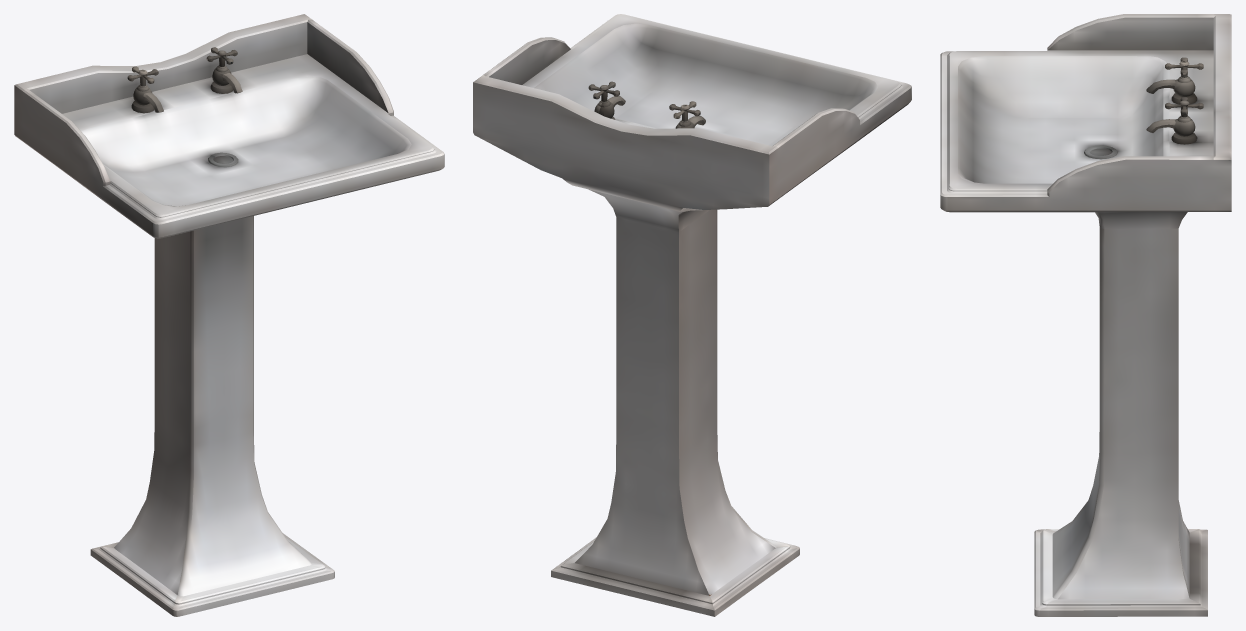
The model's file is sink_2 1.fbx.
3 views of the same model, side by side, from view 1: azimuth 30°, elevation 25°; view 2: azimuth 150°, elevation 25°; view 3: azimuth 270°, elevation 25° (orthographic). The views are drawn at different scales.
Visible parts, largest first — view 1: sink_2; view 2: sink_2; view 3: sink_2.
Boxes of the visible parts, <box> form: sink_2: <box>14,14,444,616</box>; sink_2: <box>473,14,911,616</box>; sink_2: <box>940,14,1231,616</box>.
Bounding box in the file's own units: 0.6445 × 1.02 × 0.5459.
